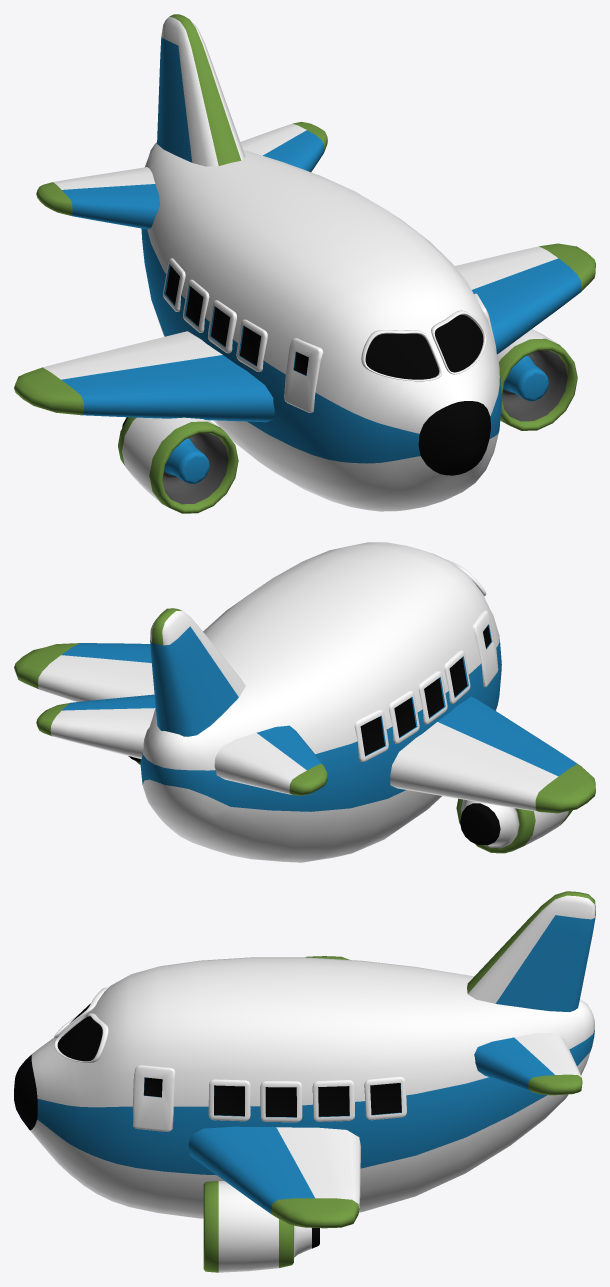
The model's file is Aviao.glb.
The picture shows the model from 3 angles, top to bottom: view 1: azimuth 30°, elevation 25°; view 2: azimuth 150°, elevation 25°; view 3: azimuth 270°, elevation 25°; orthographic projection. The views are drawn at different scales.
Visible parts, largest first — view 1: Aviao, Asa, Motor1.001, Calda, Asa_Menor, Motor1, Aviao.001, Aviao.002, janela.001, janela, Cube.005, Cube.006 (+1 smaller); view 2: Aviao, Asa, Asa_Menor, Calda, Motor1.001, Cube.007, janela.001, Cube.006, Cube.005, janela; view 3: Aviao, Asa, Calda, Motor1, Asa_Menor, janela.002, Aviao.002, Cube.002, Cube, Cube.003, Cube.004.
Boxes of the visible parts, <box> form: Aviao: <box>141,142,501,511</box>; Asa: <box>14,243,595,422</box>; Motor1.001: <box>118,417,238,513</box>; Calda: <box>157,14,245,166</box>; Asa_Menor: <box>36,122,327,229</box>; Motor1: <box>497,329,577,430</box>; Aviao.001: <box>361,330,441,381</box>; Aviao.002: <box>431,310,486,374</box>; janela.001: <box>284,338,323,412</box>; janela: <box>236,319,267,371</box>; Cube.005: <box>208,300,236,353</box>; Cube.006: <box>183,279,209,332</box>; Aviao: <box>140,542,501,862</box>; Asa: <box>14,643,595,813</box>; Asa_Menor: <box>36,694,327,795</box>; Calda: <box>150,608,245,736</box>; Motor1.001: <box>456,798,572,853</box>; Cube.007: <box>354,709,388,761</box>; janela.001: <box>473,610,498,687</box>; Cube.006: <box>388,691,419,743</box>; Cube.005: <box>418,671,447,724</box>; janela: <box>444,650,470,703</box>; Aviao: <box>14,957,594,1218</box>; Asa: <box>188,956,360,1228</box>; Calda: <box>467,891,595,1012</box>; Motor1: <box>203,1181,319,1272</box>; Asa_Menor: <box>474,1033,582,1095</box>; janela.002: <box>132,1065,175,1131</box>; Aviao.002: <box>54,1013,108,1063</box>; Cube.002: <box>260,1081,302,1122</box>; Cube: <box>208,1079,250,1121</box>; Cube.003: <box>312,1080,354,1121</box>; Cube.004: <box>364,1076,406,1120</box>.
Bounding box in the file's own units: 5.14 × 2.85 × 4.77.
Materials: 1 (1 with a texture image).
